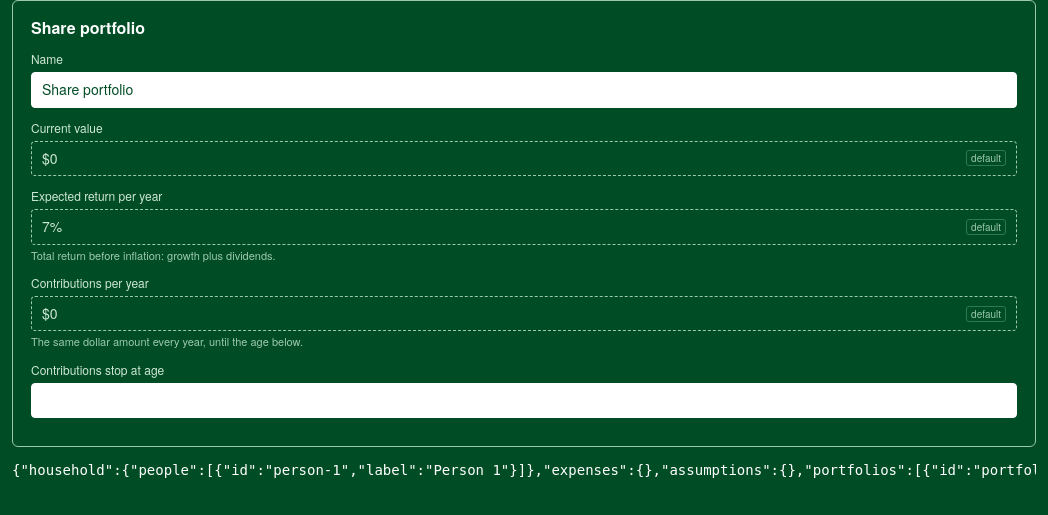
Test: PortfolioSection › expected return › rejects returns above 15%
Step 1. Type "16" into the field labelled "Expected return per year" → (501, 227), box [42, 217, 960, 237]
Then press Enter
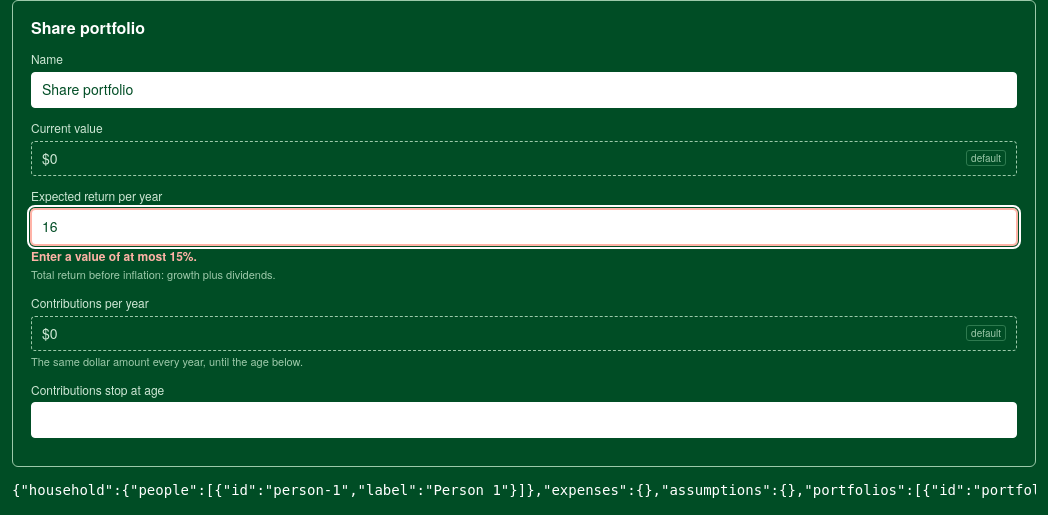
Now the text "Enter a value of at most 15%." is shown, box [31, 247, 197, 265]
